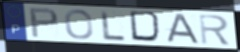A: (164, 13, 203, 45)
D: (128, 9, 165, 44)
L: (99, 9, 128, 42)
O: (63, 8, 95, 40)
P: (28, 7, 61, 39)
R: (197, 13, 232, 46)
